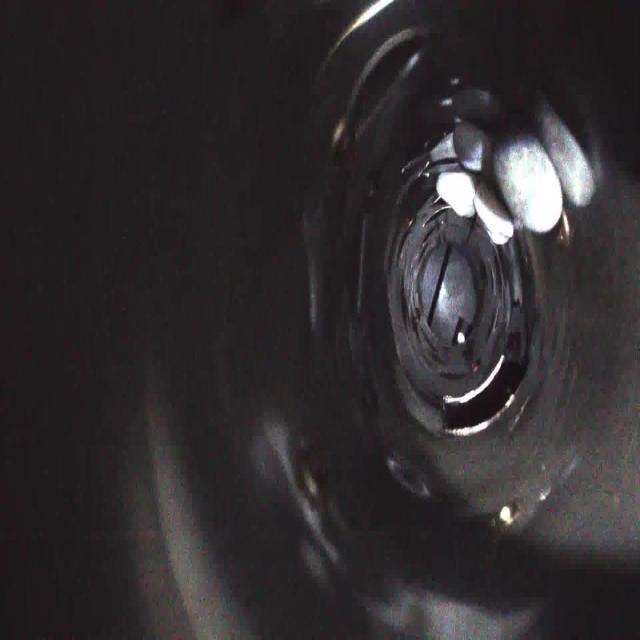crack: (387, 206, 423, 278), (486, 231, 518, 301), (389, 268, 418, 342), (420, 200, 450, 248), (485, 306, 516, 352), (409, 338, 440, 376), (459, 204, 485, 242), (436, 360, 470, 388)
hole: (439, 361, 530, 443)
